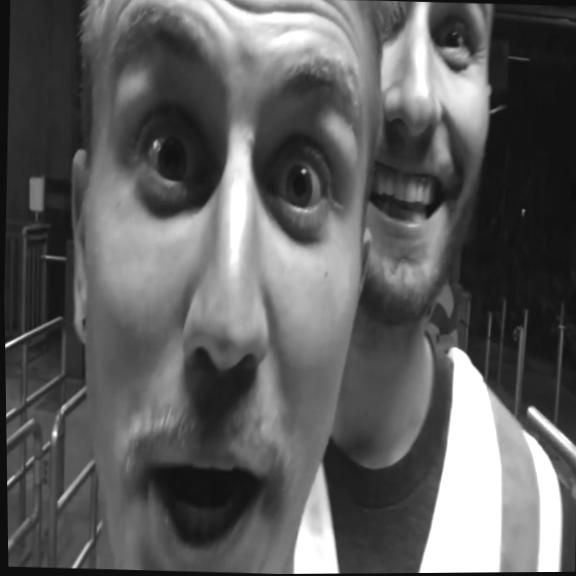safety_vest: (288, 335, 570, 574)
